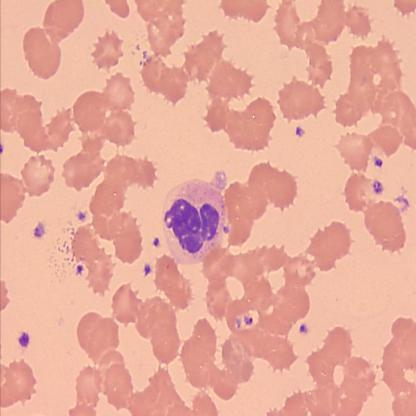Segmented neutrophil: (160, 178, 230, 266)
